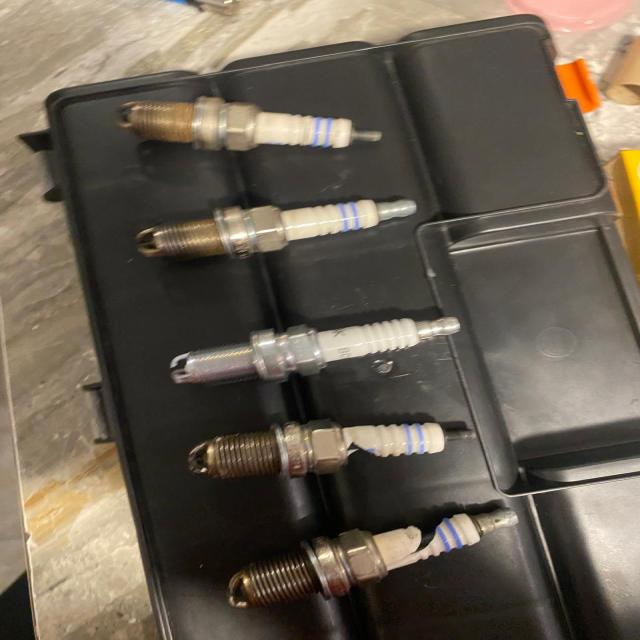damaged_spark-plug: (226, 502, 510, 612), (190, 426, 478, 483)
spark-plug: (168, 311, 468, 391), (136, 196, 420, 268), (113, 90, 387, 156)
